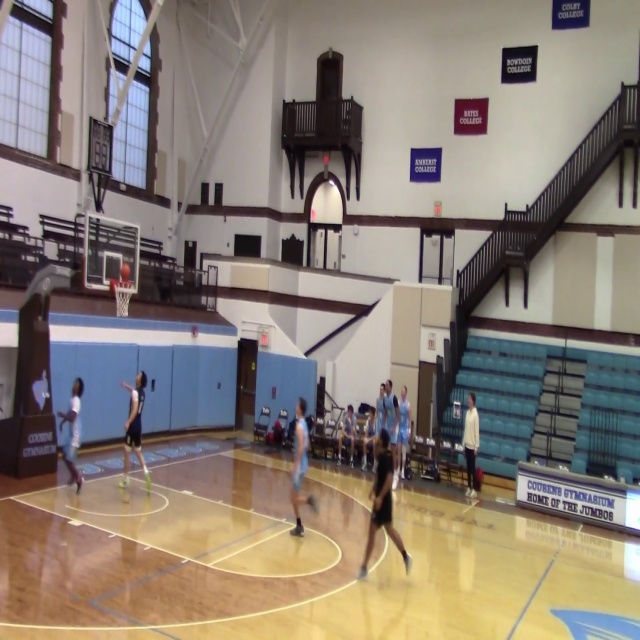Basketball: (120, 263, 130, 280), (109, 278, 118, 295)
